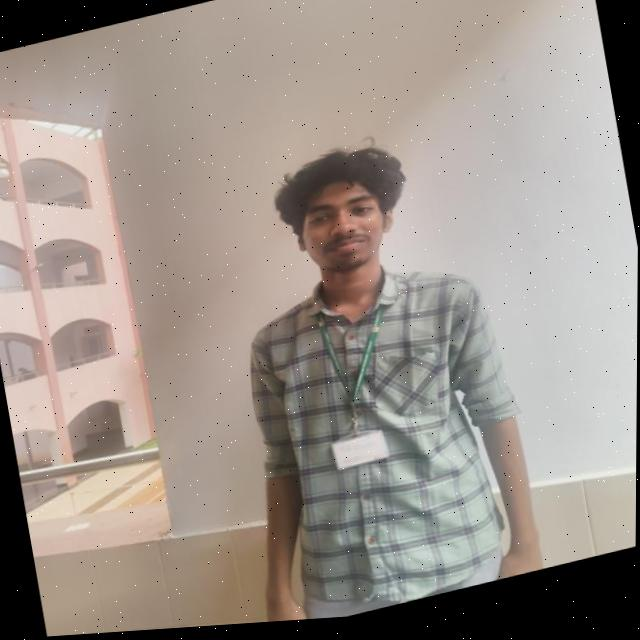id_card: (305, 295, 401, 484)
